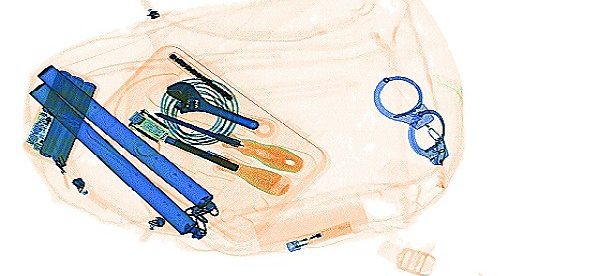handcuffs: (372, 73, 447, 165)
lighter: (285, 219, 354, 253)
powerbank: (20, 66, 99, 167)
